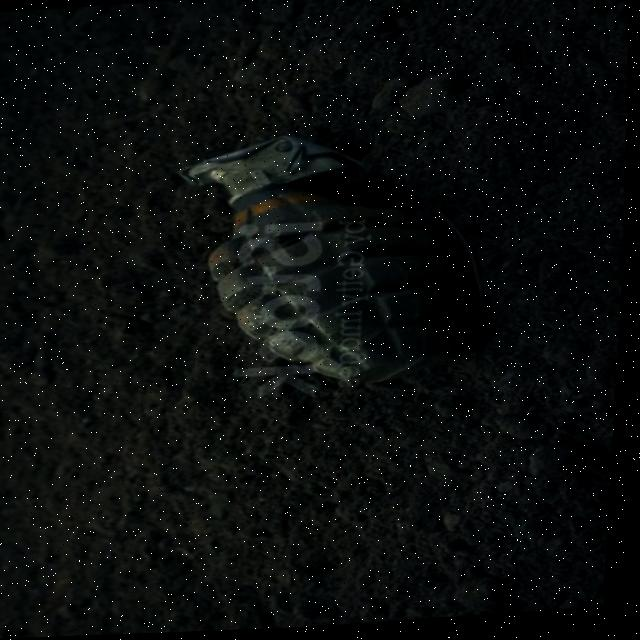grenade: (167, 121, 497, 398)
